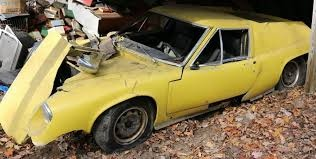Broken-glass: (128, 14, 197, 66), (196, 30, 250, 67)
Smashed: (8, 32, 125, 146)
